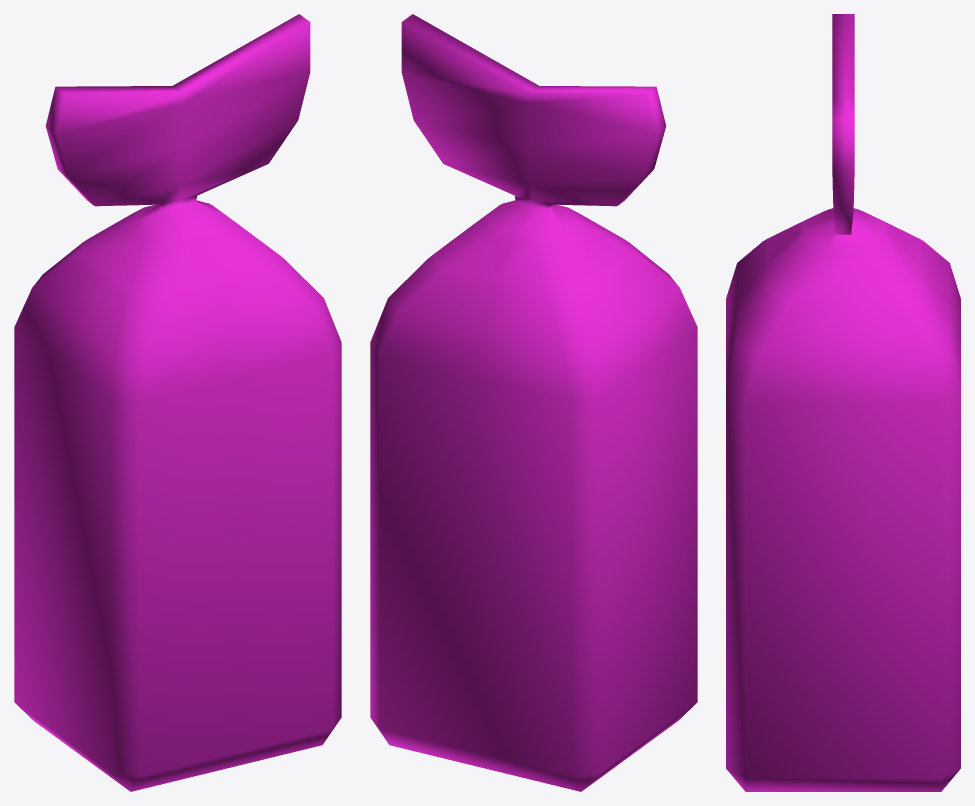
The model's file is Pancarre_integrale_riciclato.fbx.
3 views of the same model, side by side, from view 1: azimuth 30°, elevation 25°; view 2: azimuth 150°, elevation 25°; view 3: azimuth 270°, elevation 25° (orthographic).
Parts seen in each view (by area): view 1: PanCarre_integrale_Ricilato; view 2: PanCarre_integrale_Ricilato; view 3: PanCarre_integrale_Ricilato.
Boxes of the visible parts, box(x1,y1,x2,y2) form: PanCarre_integrale_Ricilato: box(14, 14, 341, 791); PanCarre_integrale_Ricilato: box(370, 14, 697, 791); PanCarre_integrale_Ricilato: box(726, 14, 960, 791).
Bounding box in the file's own units: 191 × 492 × 152.
